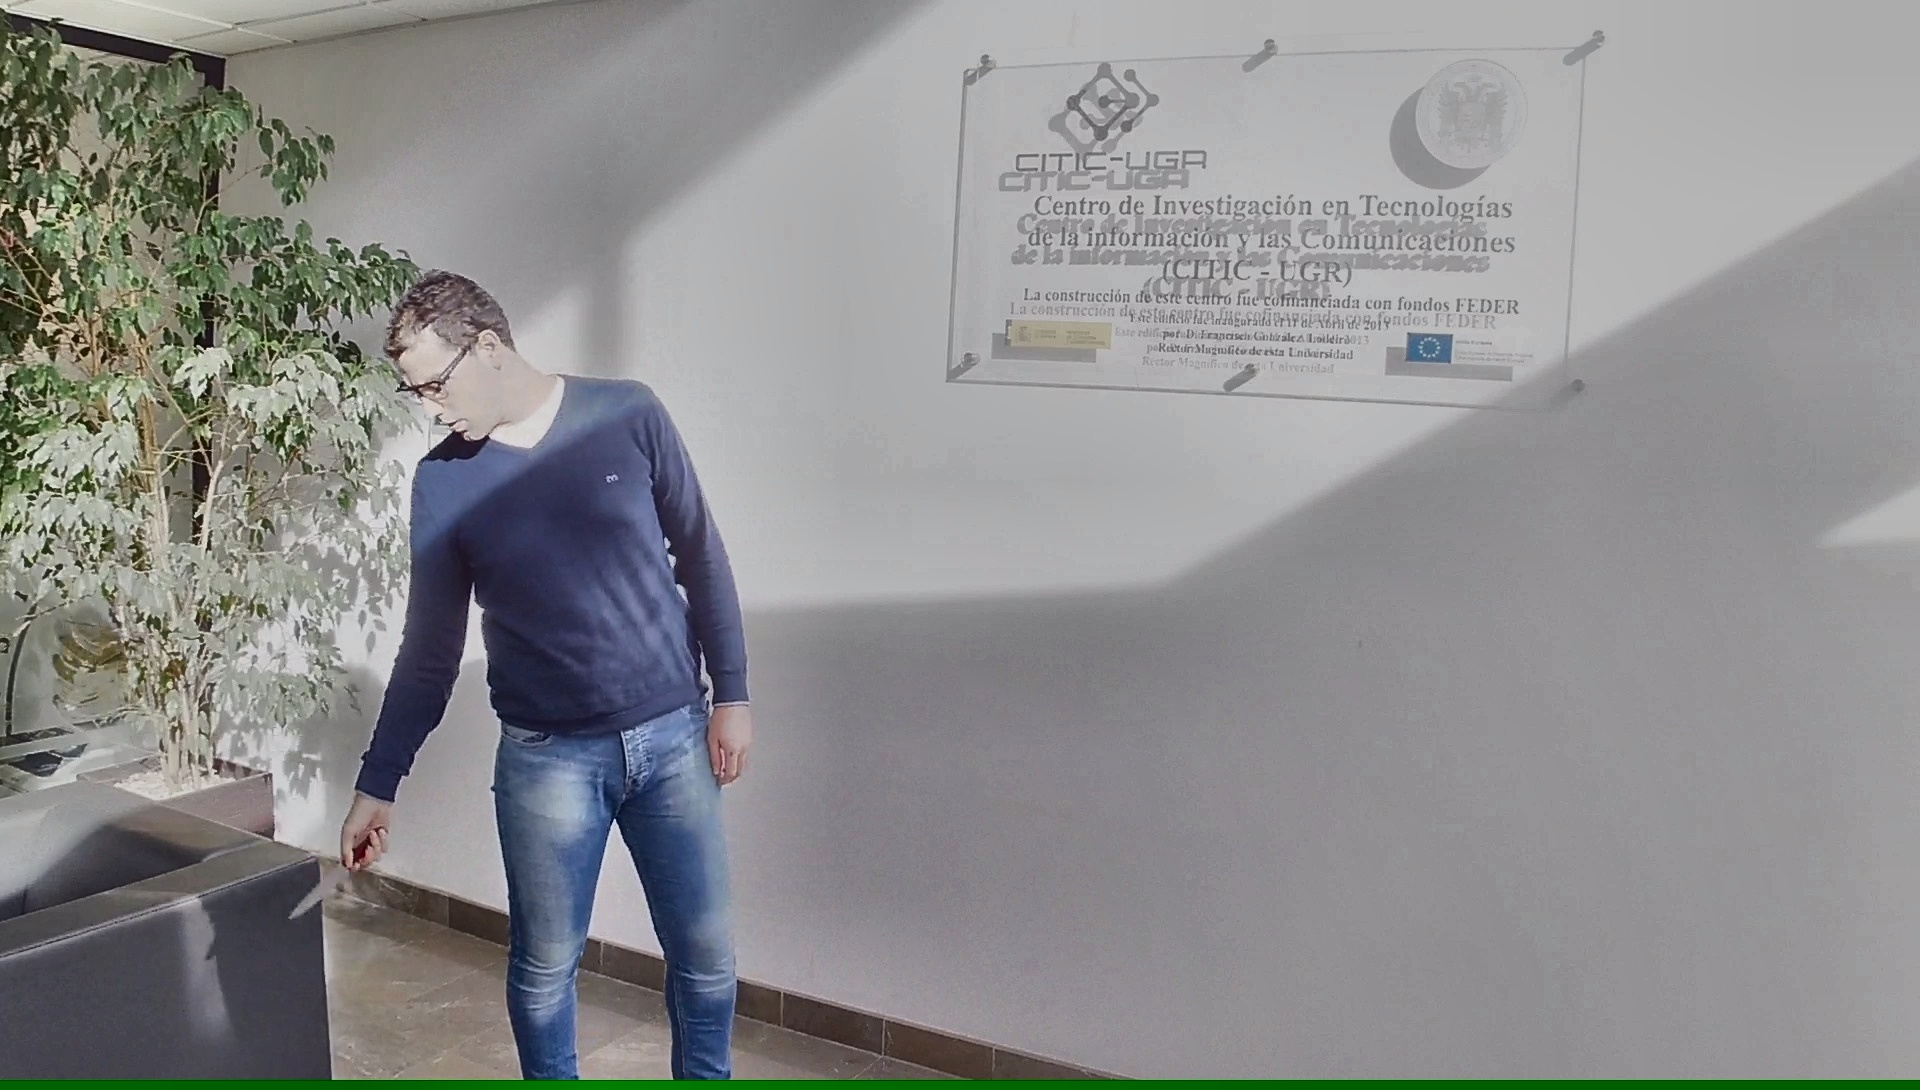knife: (281, 818, 392, 927)
